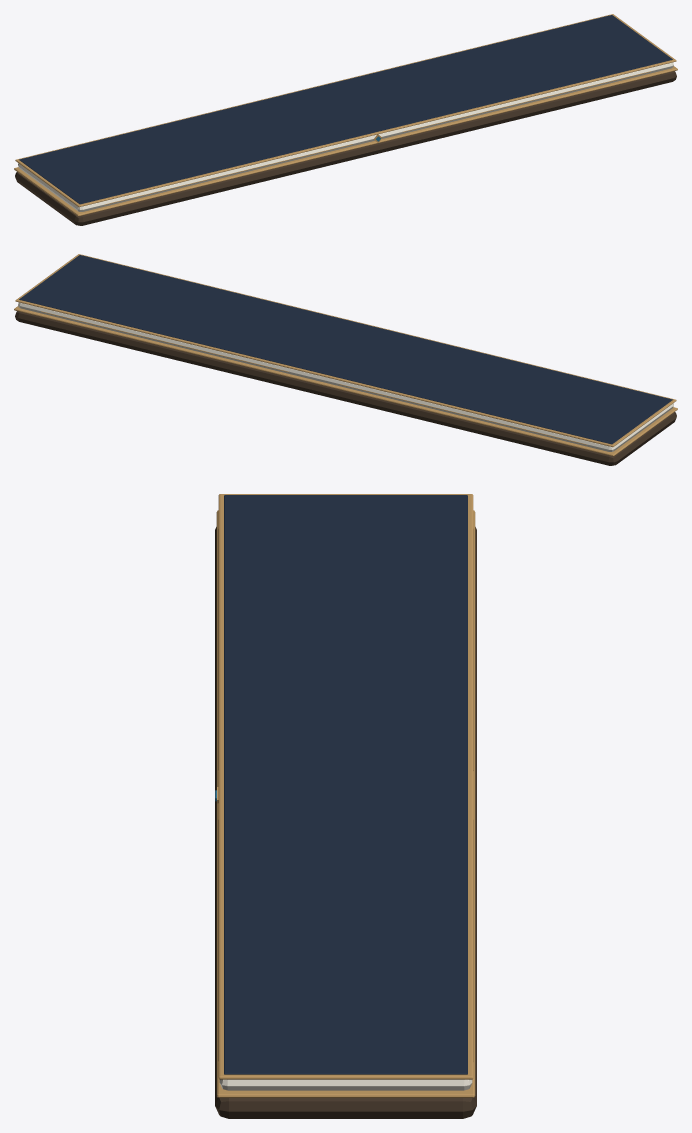
Rendered from market.glb.
The picture shows the model from 3 angles, top to bottom: view 1: azimuth 30°, elevation 25°; view 2: azimuth 150°, elevation 25°; view 3: azimuth 270°, elevation 25°; orthographic projection. The views are drawn at different scales.
Parts seen in each view (by area): view 1: MarketVisual; view 2: MarketVisual; view 3: MarketVisual.
Boxes of the visible parts, x1=… form: MarketVisual: x1=14, y1=14, x2=677, y2=225; MarketVisual: x1=14, y1=254, x2=677, y2=465; MarketVisual: x1=215, y1=494, x2=476, y2=1118.
Size of the model in its own units: 0.384 by 0.0141 by 0.0723.
